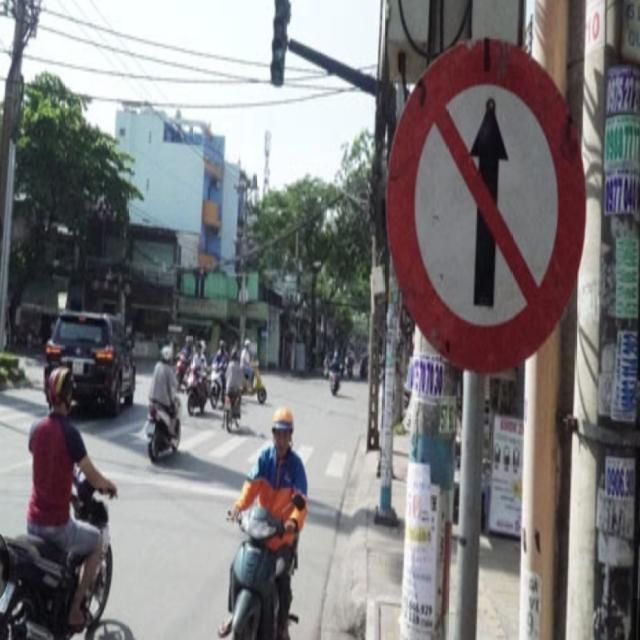136-cam-di-thang: (384, 39, 588, 369)
